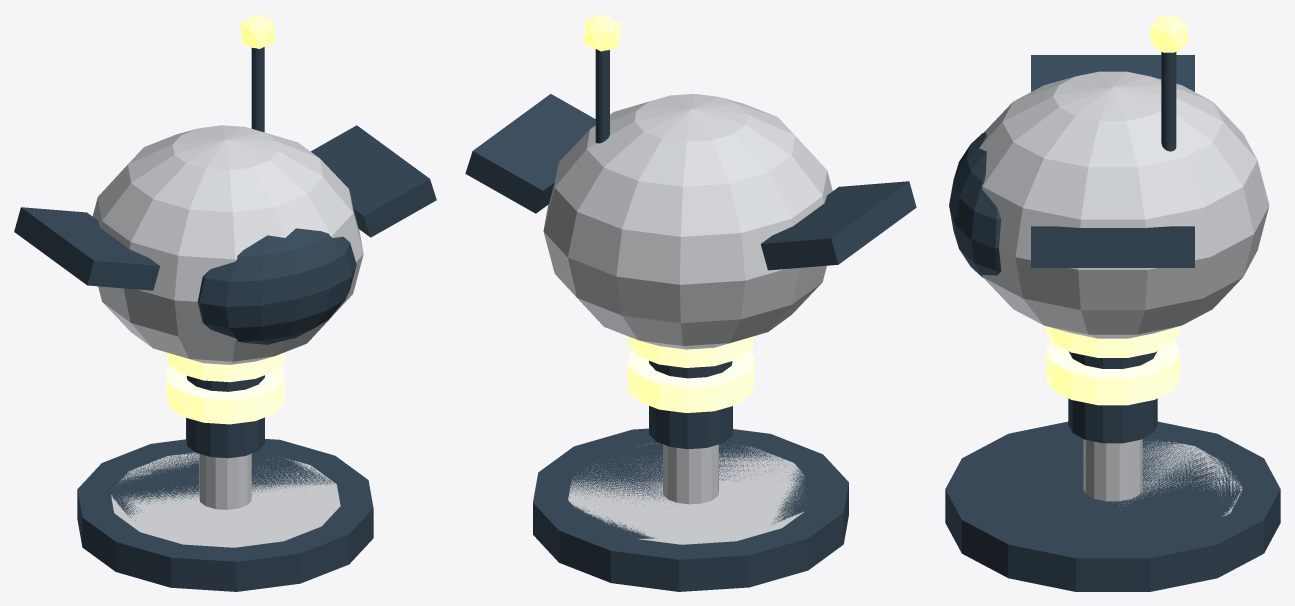
File: Hopper.glb
The picture shows the model from 3 angles, left to right: view 1: azimuth 30°, elevation 25°; view 2: azimuth 150°, elevation 25°; view 3: azimuth 270°, elevation 25°; orthographic projection. The views are drawn at different scales.
Parts seen in each view (by area): view 1: MoonGray, Dark.004, Dark, MoonGray.002, Dark.002, Dark.001, Gold.001, Dark.003, MoonGray.001, Gold, Dark.005, WarningYellow.001; view 2: MoonGray, Dark.004, MoonGray.002, Dark.002, Dark.001, Gold.001, Dark.003, MoonGray.001, Gold, Dark.005, WarningYellow.001; view 3: MoonGray, Dark.004, Dark.002, Gold.001, Dark, Dark.003, Dark.001, MoonGray.001, MoonGray.002, Gold, Dark.005, WarningYellow.001.
Part boxes in pixels (x1,y1,x2,y2): MoonGray: (92, 125, 363, 364); Dark.004: (77, 439, 373, 591); Dark: (197, 228, 356, 344); MoonGray.002: (111, 452, 340, 547); Dark.002: (311, 125, 436, 237); Dark.001: (14, 207, 159, 290); Gold.001: (166, 366, 284, 424); Dark.003: (186, 375, 264, 458); MoonGray.001: (199, 453, 251, 509); Gold: (166, 352, 284, 382); Dark.005: (251, 47, 264, 132); WarningYellow.001: (240, 14, 275, 48); MoonGray: (543, 94, 832, 349); Dark.004: (533, 428, 848, 591); MoonGray.002: (568, 443, 804, 544); Dark.002: (465, 94, 595, 213); Dark.001: (760, 181, 916, 270); Gold.001: (627, 350, 754, 412); Dark.003: (649, 360, 732, 449); MoonGray.001: (663, 444, 718, 504); Gold: (627, 336, 754, 367); Dark.005: (595, 49, 609, 143); WarningYellow.001: (584, 14, 621, 51); MoonGray: (979, 71, 1269, 338); Dark.004: (945, 421, 1280, 591); Dark.002: (1031, 226, 1194, 267); Gold.001: (1046, 341, 1179, 405); Dark: (949, 132, 1001, 277); Dark.003: (1068, 351, 1157, 443); Dark.001: (1031, 55, 1194, 91); MoonGray.001: (1083, 439, 1142, 501); MoonGray.002: (1071, 440, 1242, 516); Gold: (1046, 326, 1179, 357); Dark.005: (1161, 52, 1176, 151); WarningYellow.001: (1150, 14, 1187, 52).
Bounding box in the file's own units: 1.21 × 1.6 × 0.9.
